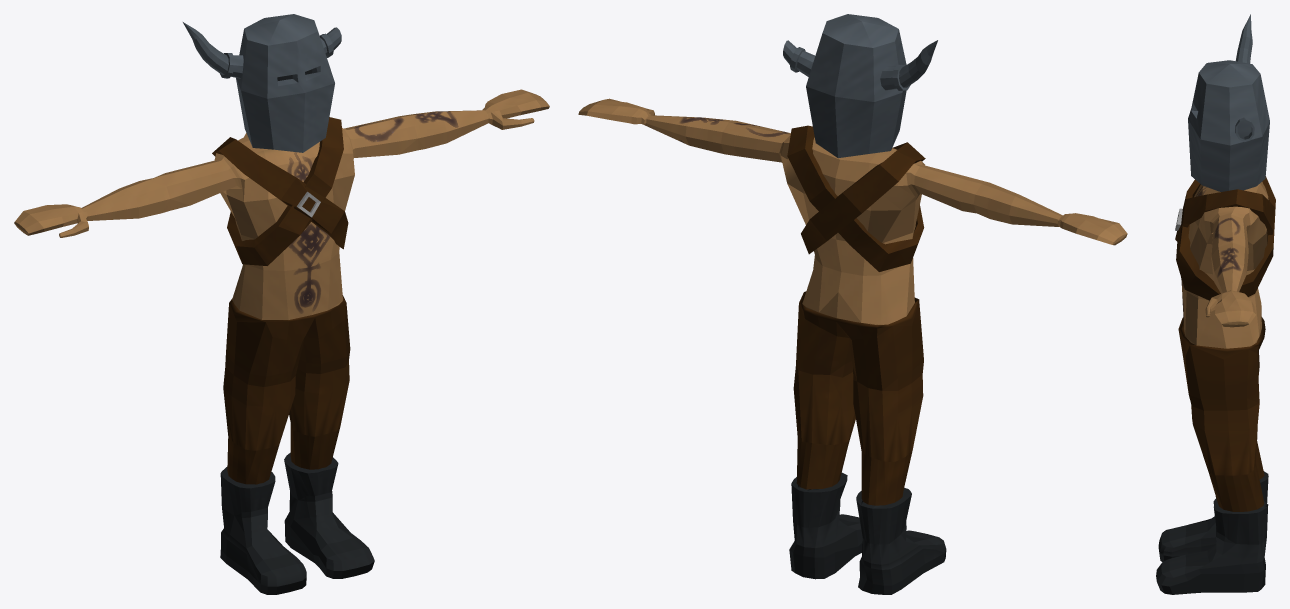
Rendered from Barbarian.fbx.
3 renders of one model, left to right at view 1: azimuth 30°, elevation 25°; view 2: azimuth 150°, elevation 25°; view 3: azimuth 270°, elevation 25°, orthographic. The views are drawn at different scales.
Parts seen in each view (by area): view 1: Barbarian; view 2: Barbarian; view 3: Barbarian.
Boxes of the visible parts, <box> form: Barbarian: <box>14,14,549,594</box>; Barbarian: <box>578,14,1127,594</box>; Barbarian: <box>1156,14,1275,594</box>.
Size of the model in its own units: 8.16 by 8.19 by 1.73.
Materials: 1 (1 with a texture image).
